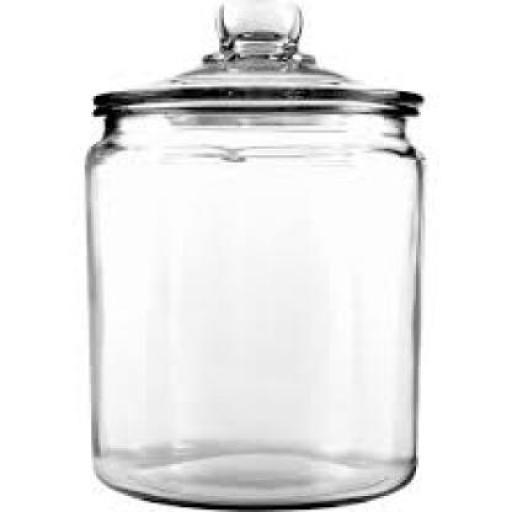glass: (80, 0, 421, 510)
